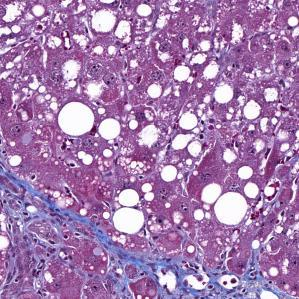fibrosis: (0, 181, 105, 254), (131, 250, 247, 297)
